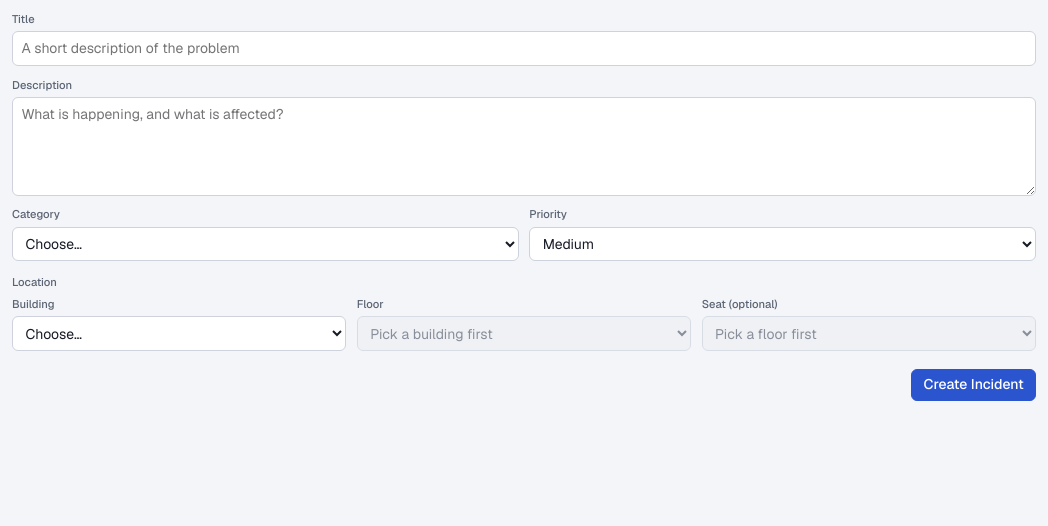
Scenario: an invalid form shows errors and does not submit
Click the button "Create Incident": x=974, y=385 [911,368,1036,401]
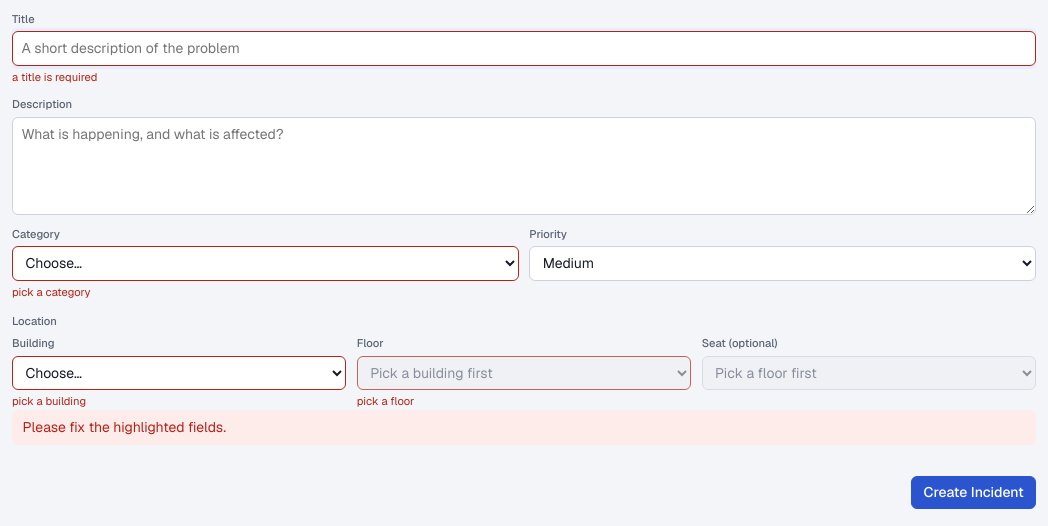
Expected: the message "Please fix the highlighted fields." is shown, [12,410,1036,445]
